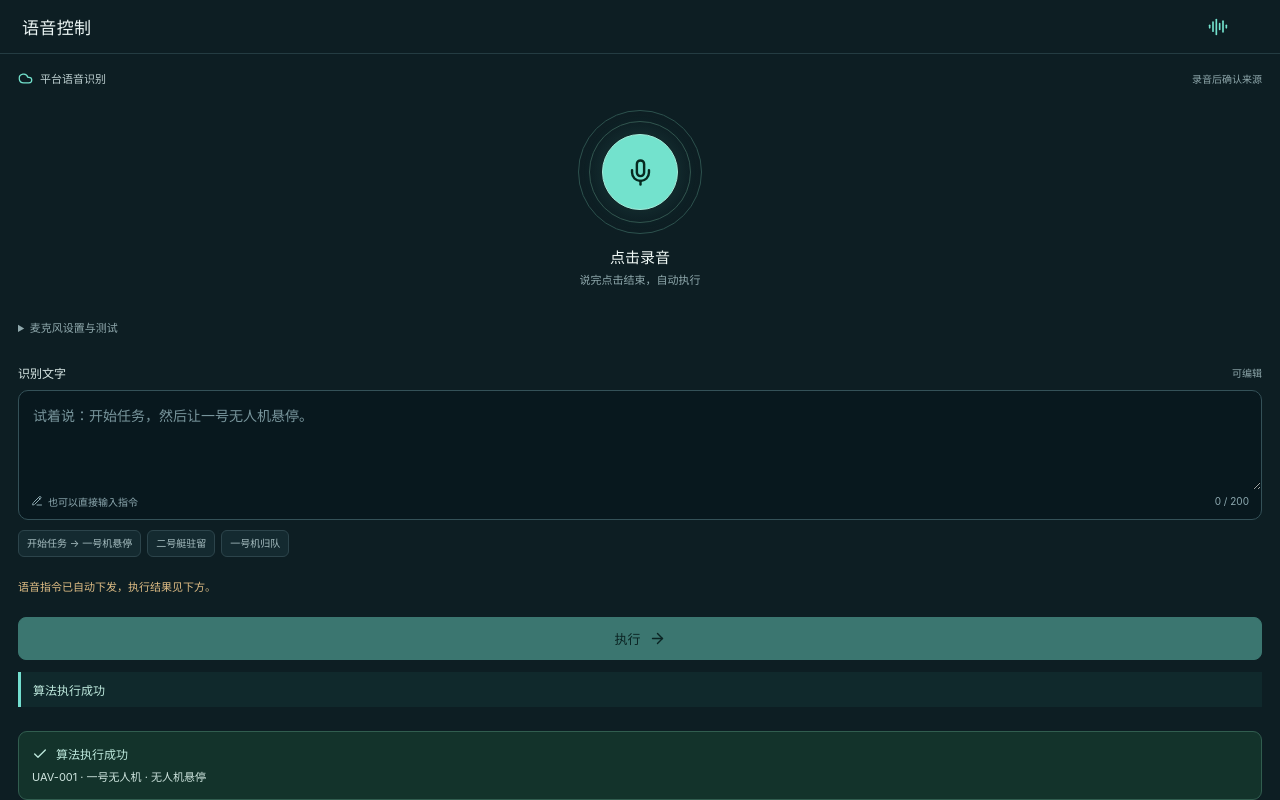
VoiceP0ControlPanel refined controls › clears previous automatic feedback before a new microphone request fails
Click the button with class "refined-mic": (640, 172) [602,134,678,210]
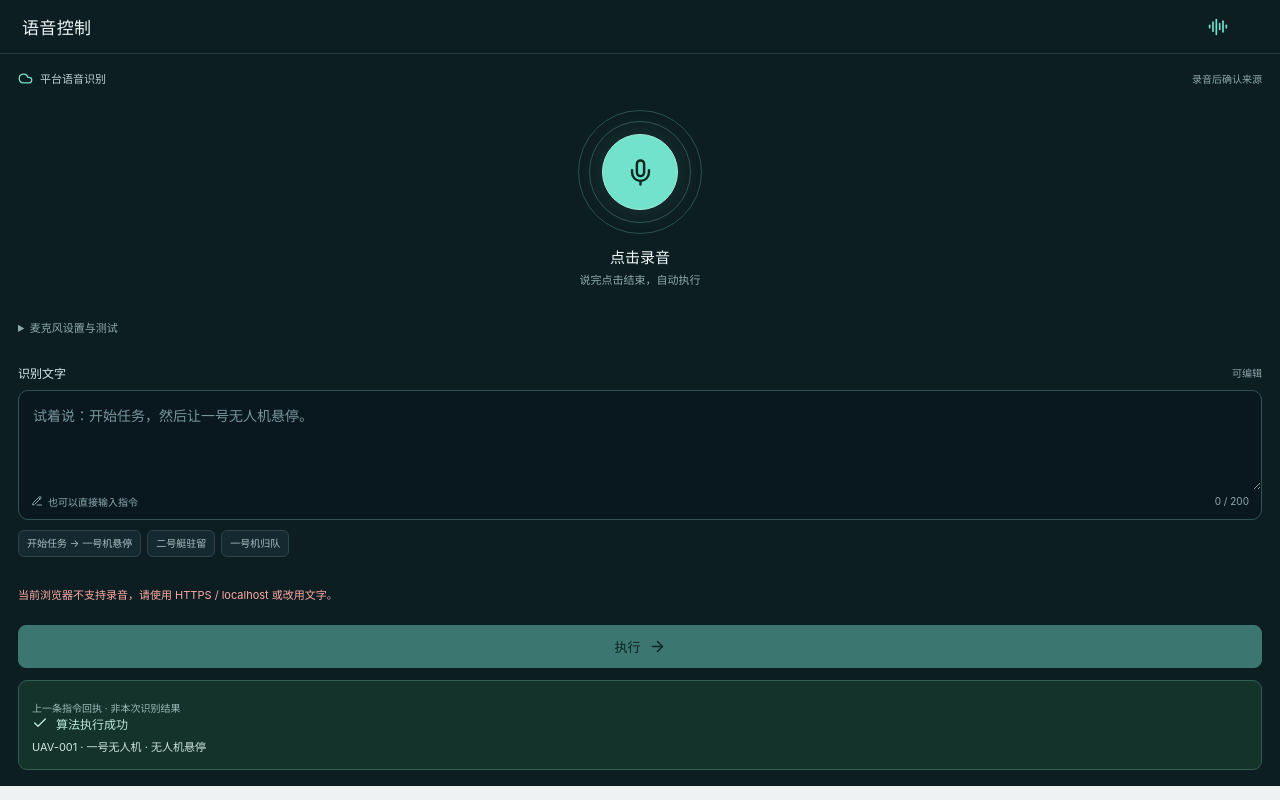
Expected: the text "当前浏览器不支持录音" is shown, [18,588,338,602]
Expected: the text "语音指令已自动下发" is gone
Expected: the text "上一条指令回执 · 非本次识别结果" is shown, [32,702,180,714]
